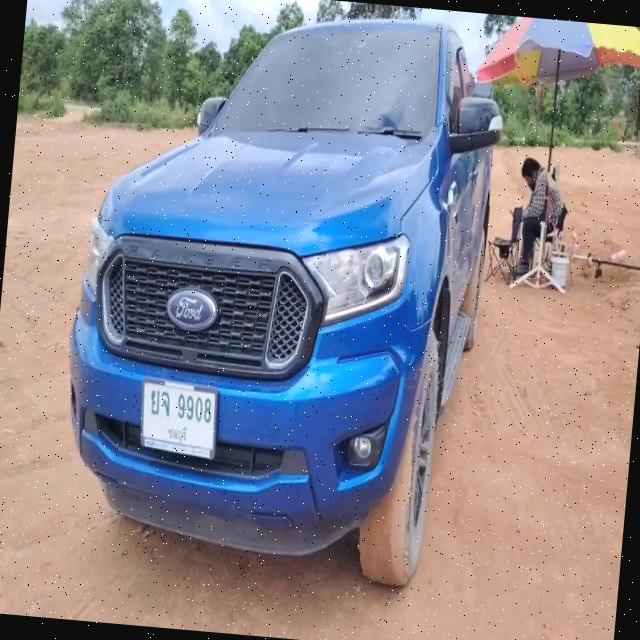Digit: (176, 392, 211, 425)
Licenseplate: (140, 378, 218, 460)
Provincename: (168, 424, 187, 445)
Thaichar: (150, 389, 169, 417)
